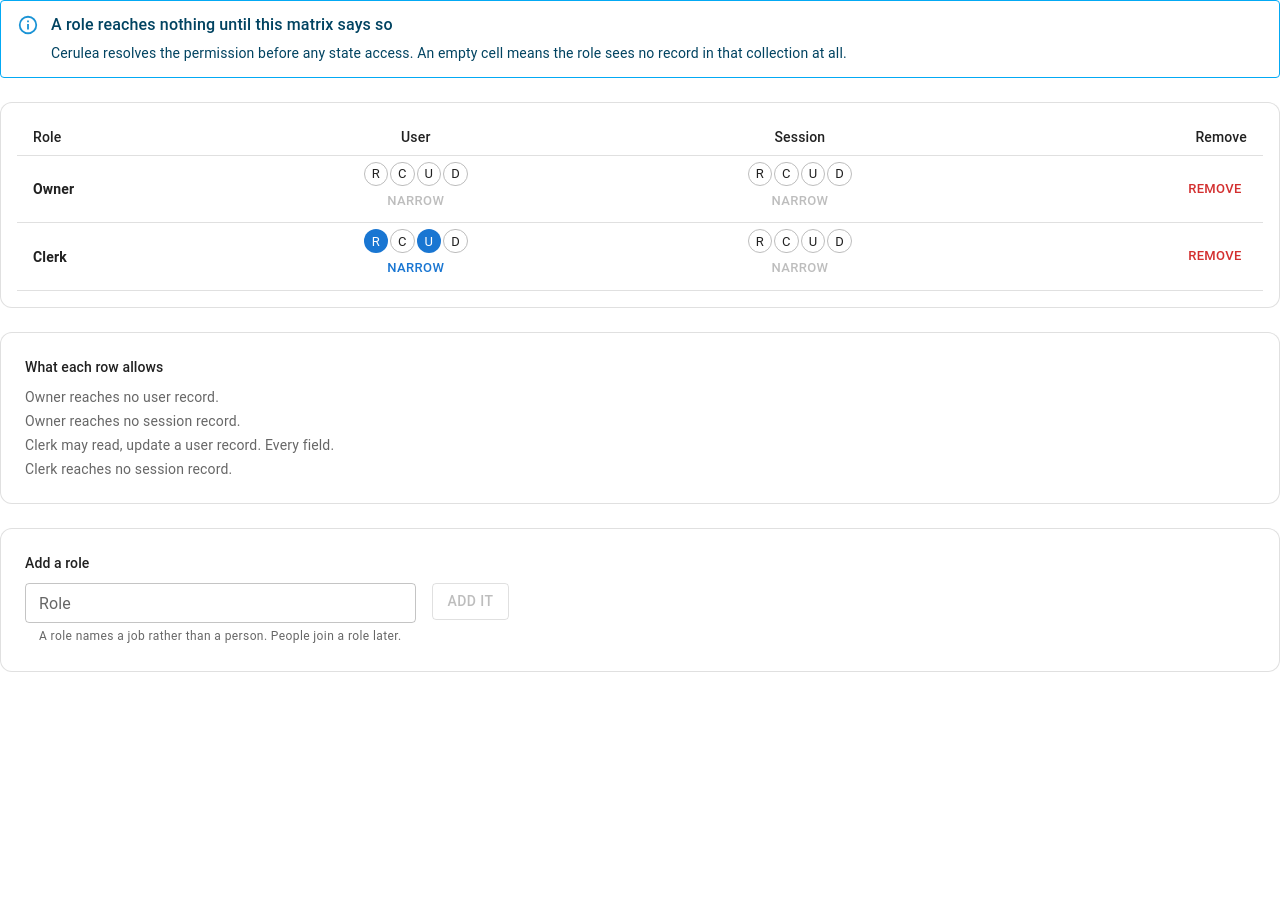
narrowing one cell › lists the fields of the collection and narrows the cell to a ticked field
Step 1. Click the 3rd button "Narrow" → (416, 269), box [382, 253, 449, 284]
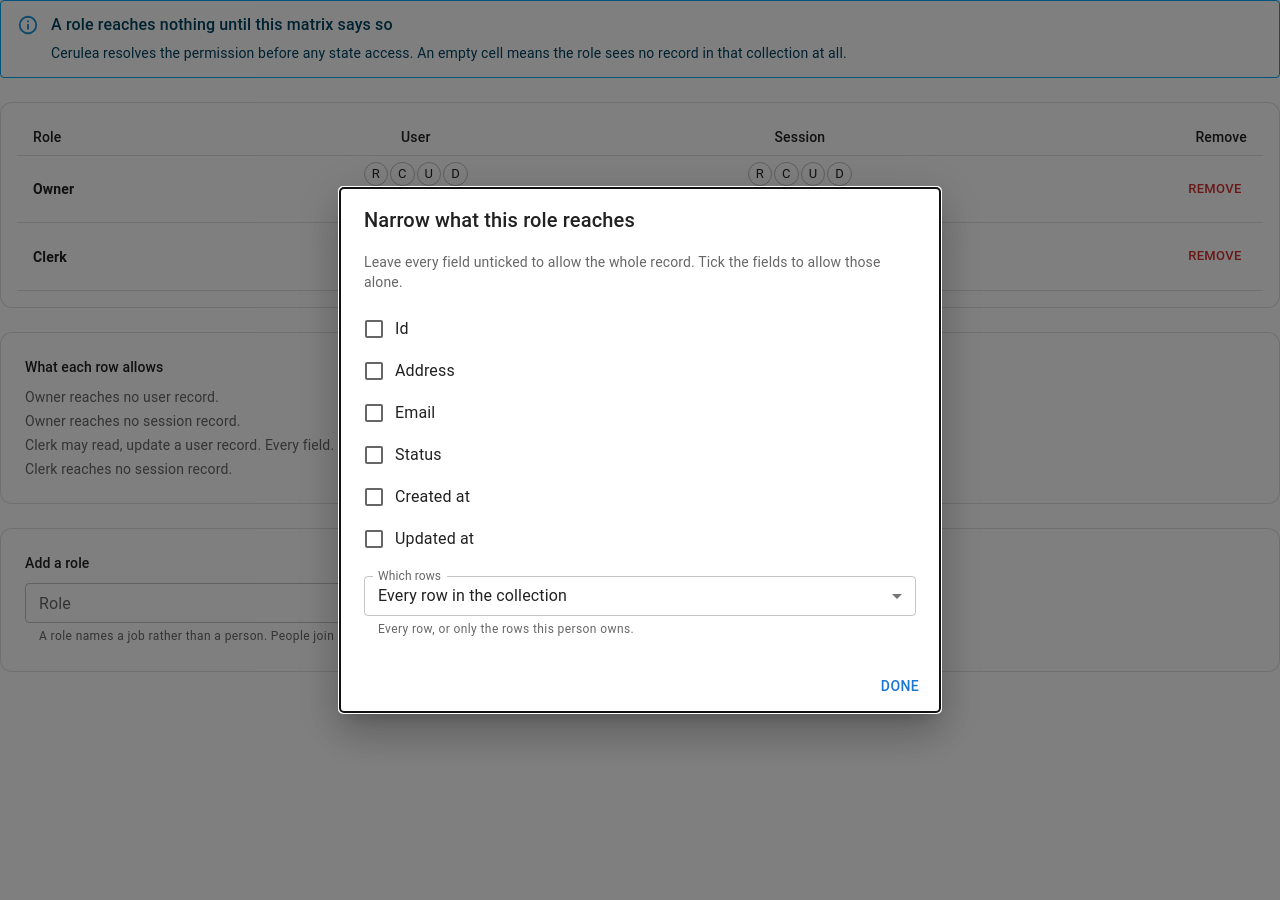
Expected: the heading "Narrow what this role reaches" is shown, [364, 208, 635, 232]
Expected: the checkbox labelled "Created at" is not checked, [362, 485, 470, 509]
Step 2. Click the checkbox labelled "Email" → (399, 413), box [362, 401, 435, 425]
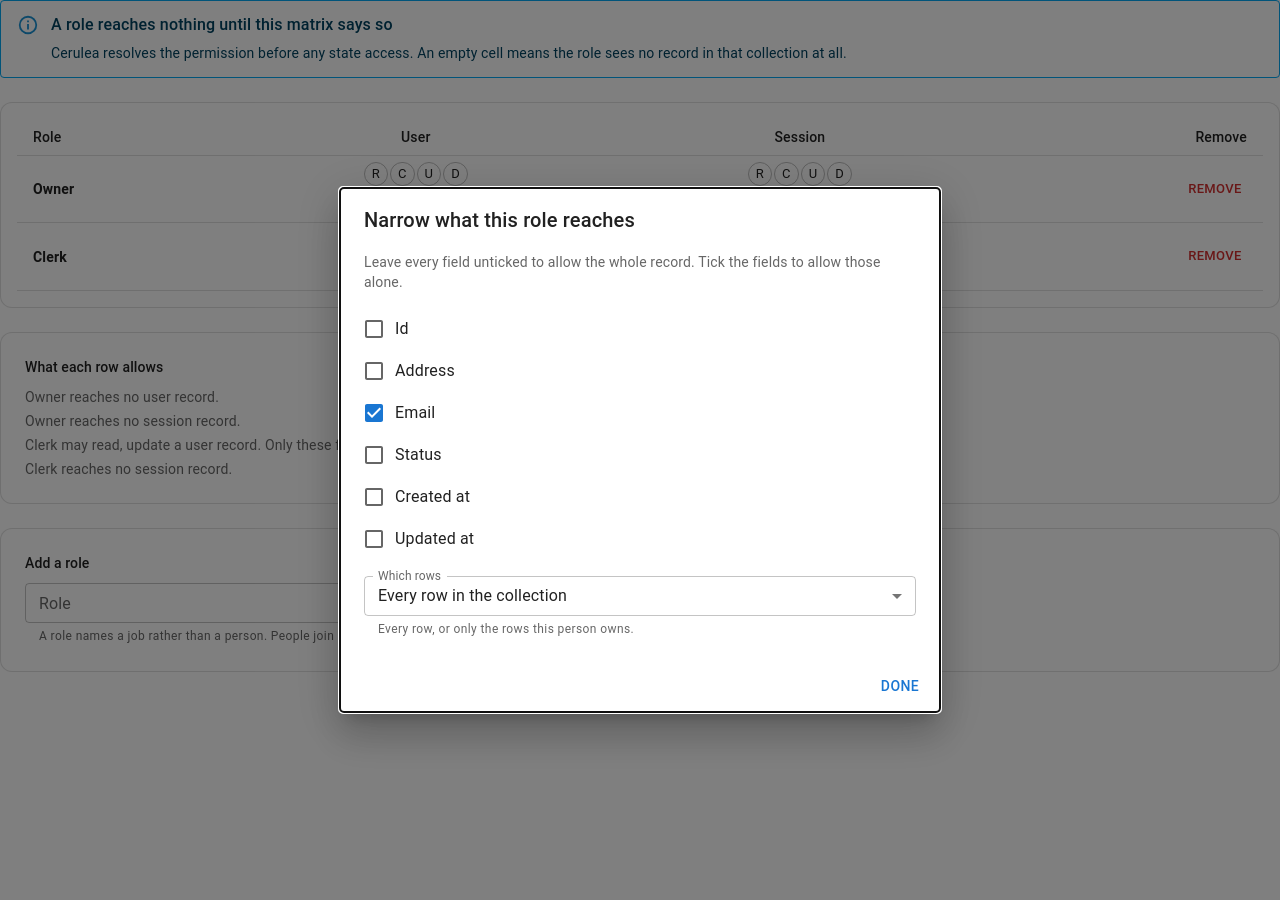
Expected: the checkbox labelled "Email" is checked, [362, 401, 435, 425]
Expected: the text "Clerk may read, update a user record. Only these fields: email." is shown, [25, 437, 416, 453]
